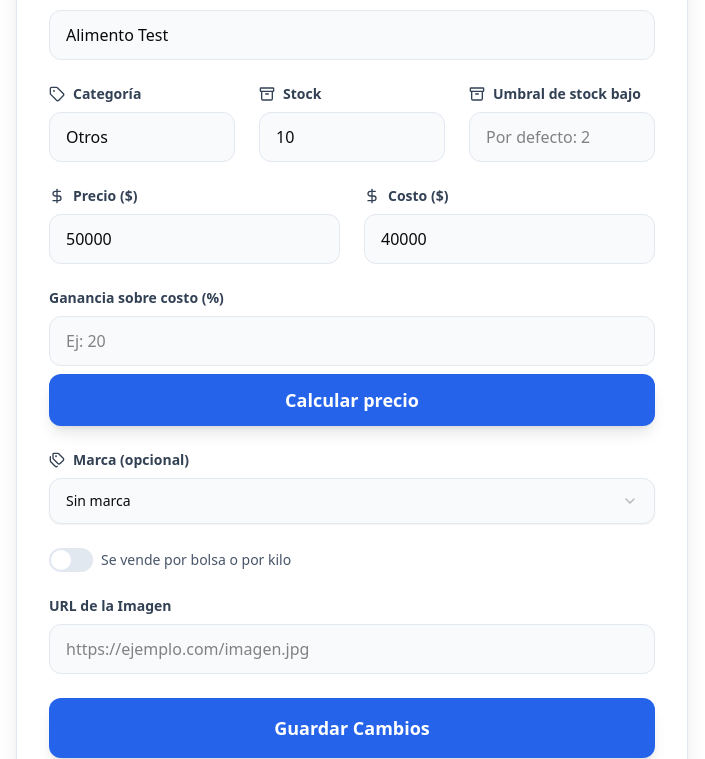
Test case: ProductForm (la sección de bolsa/kilo depende de la categoría) › Otros: al encender el interruptor aparece la sección
This screenshot has width=705, height=759.
Click the checkbox labelled "Se vende por bolsa o por kilo" at [170, 560], box [49,548,291,572]
(page scrolled)
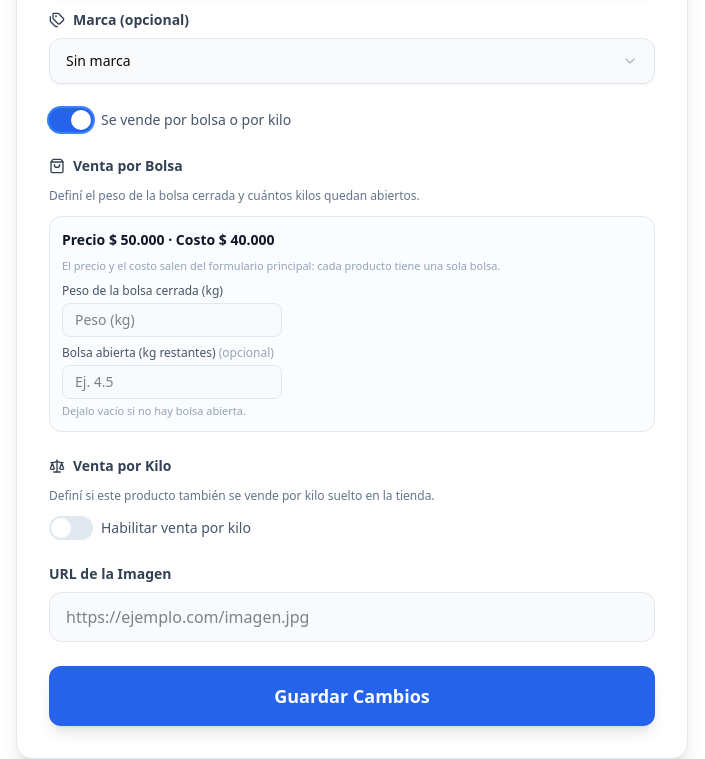
Check: the text "Venta por Bolsa" is shown, box [49,156,183,175]
Check: the text "Venta por Kilo" is shown, box [49,456,172,475]
